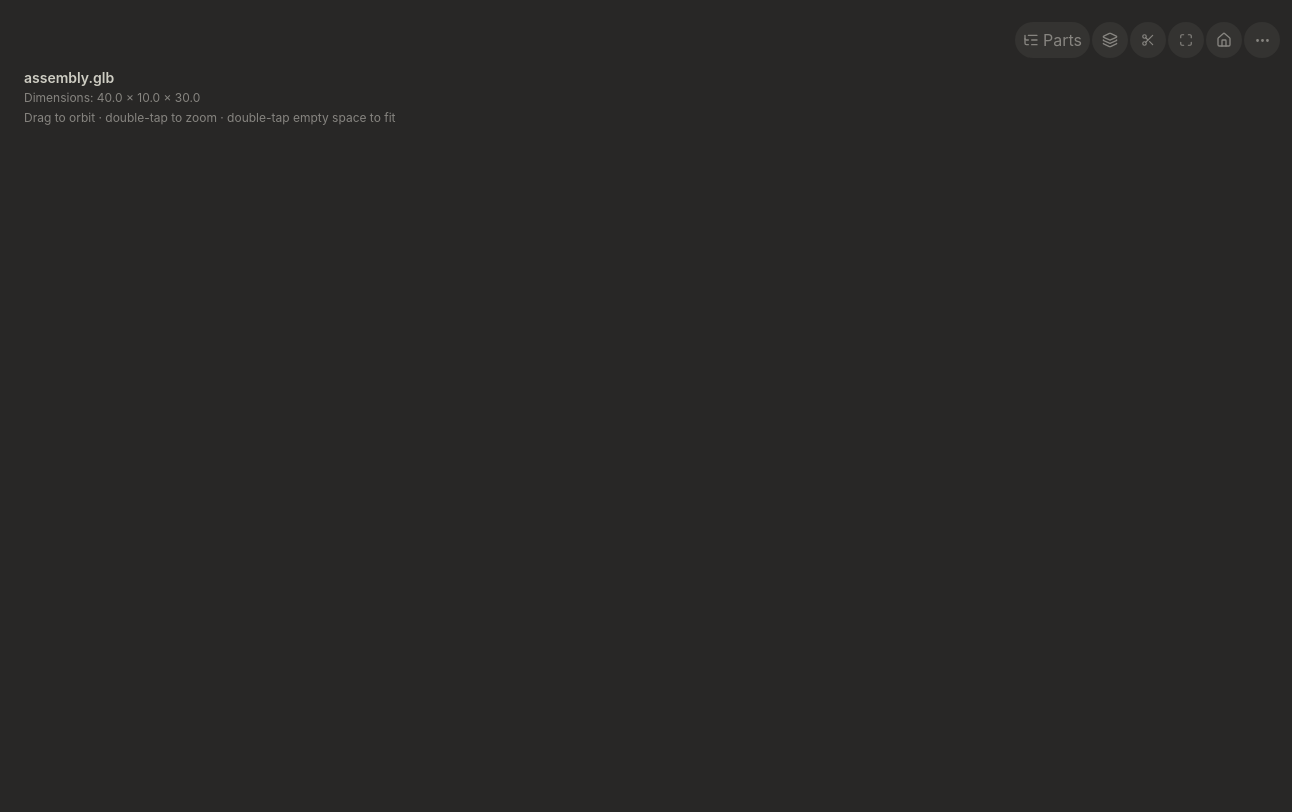
assembly viewer controls › does not select during dragging or a two-finger gesture
Expected: the button "Parts" is shown, [1015,22,1090,58]
Press the mouse on the element named "3D model" at coordinates (162, 87), box [12,12,312,162]
Press the mouse on the element named "3D model" at coordinates (162, 87), box [12,12,312,162]
Press the mouse on the element named "3D model" at coordinates (162, 87), box [12,12,312,162]
Press the mouse on the element named "3D model" at coordinates (162, 87), box [12,12,312,162]
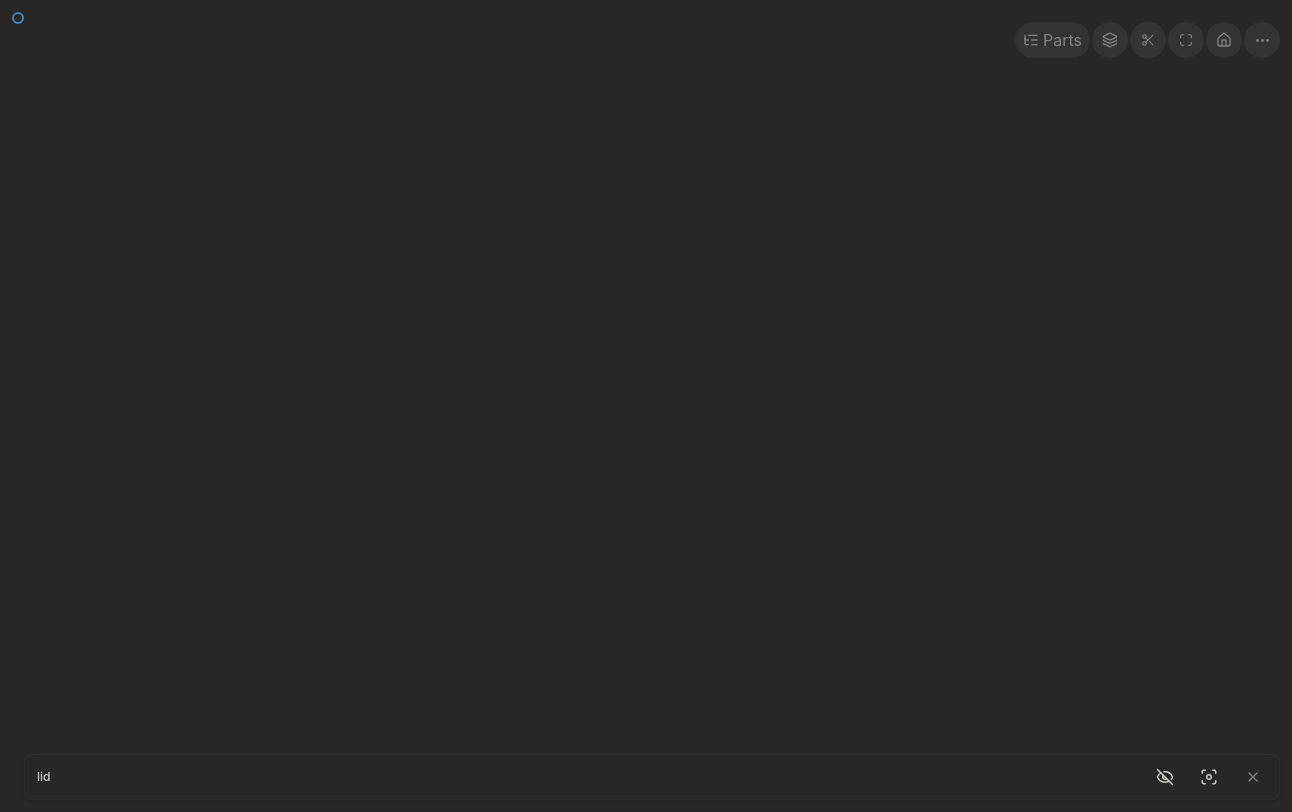
Expected: the button named "Hide part" is shown, [1143,755,1187,799]
